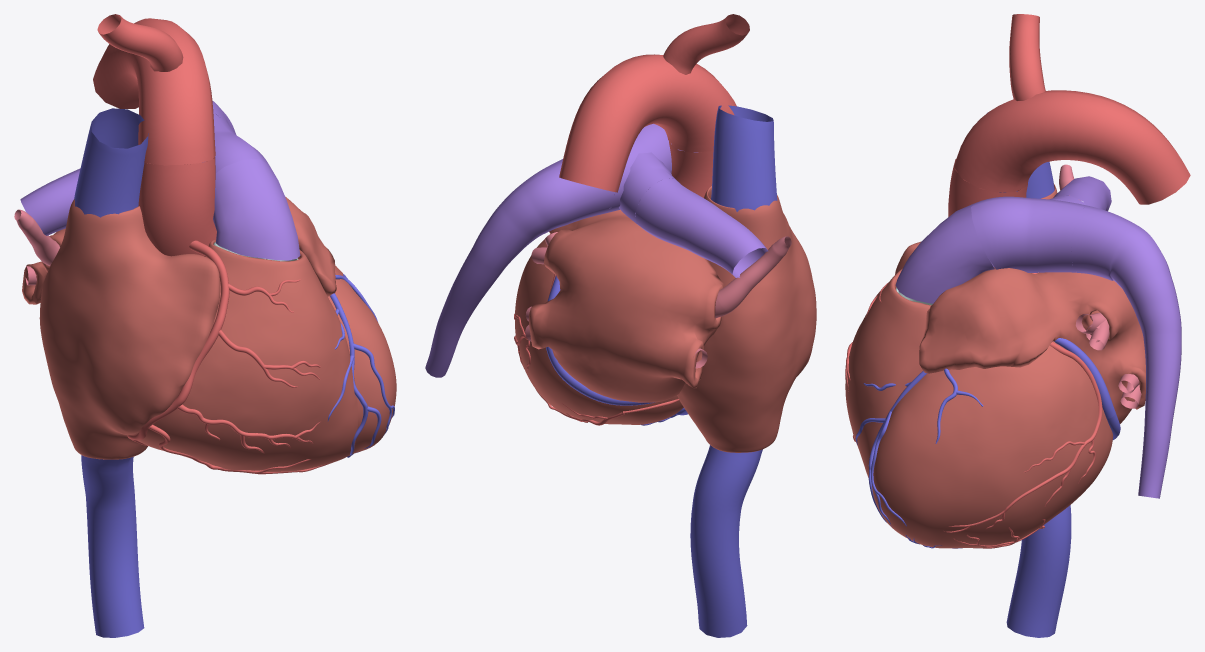
File: heart.glb
3 views of the same model, side by side, from view 1: azimuth 30°, elevation 25°; view 2: azimuth 150°, elevation 25°; view 3: azimuth 270°, elevation 25° (orthographic).
Parts seen in each view (by area): view 1: Right atrium, Right ventricle, Aortic arch, Inferior vena cava (thoracic part), Pulmonary trunk, Ascending aorta, Superior vena cava, Right coronary artery, Left ventricle, Left atrium, Brachiocephalic trunk, Right pulmonary artery (+3 smaller); view 2: Left atrium, Right atrium, Aortic arch, Left pulmonary artery, Inferior vena cava (thoracic part), Right pulmonary artery, Superior vena cava, Left ventricle, Bifurcation of pulmonary trunk, Brachiocephalic trunk, Right superior pulmonary vein, Ascending aorta (+1 smaller); view 3: Left ventricle, Left atrium, Aortic arch, Left pulmonary artery, Right ventricle, Bifurcation of pulmonary trunk, Inferior vena cava (thoracic part), Pulmonary trunk, Brachiocephalic trunk, Great cardiac vein, Circumflex artery of heart, Ascending aorta (+4 smaller).
Part boxes in pixels (left/top/right/bottom): Right atrium: left=39, top=199, right=220, bottom=459; Right ventricle: left=131, top=240, right=358, bottom=472; Aortic arch: left=93, top=18, right=215, bottom=164; Inferior vena cava (thoracic part): left=81, top=455, right=144, bottom=637; Pulmonary trunk: left=213, top=159, right=300, bottom=260; Ascending aorta: left=138, top=157, right=216, bottom=256; Superior vena cava: left=74, top=108, right=148, bottom=217; Right coronary artery: left=127, top=240, right=332, bottom=474; Left ventricle: left=328, top=266, right=396, bottom=453; Left atrium: left=22, top=196, right=336, bottom=304; Brachiocephalic trunk: left=97, top=14, right=183, bottom=71; Right pulmonary artery: left=20, top=168, right=80, bottom=235; Left atrium: left=529, top=209, right=723, bottom=402; Right atrium: left=677, top=186, right=816, bottom=452; Aortic arch: left=559, top=54, right=736, bottom=192; Left pulmonary artery: left=425, top=159, right=614, bottom=377; Inferior vena cava (thoracic part): left=690, top=445, right=762, bottom=637; Right pulmonary artery: left=635, top=178, right=768, bottom=277; Superior vena cava: left=711, top=105, right=777, bottom=211; Left ventricle: left=515, top=234, right=683, bottom=424; Bifurcation of pulmonary trunk: left=604, top=123, right=682, bottom=225; Brachiocephalic trunk: left=663, top=14, right=749, bottom=74; Right superior pulmonary vein: left=715, top=236, right=791, bottom=318; Ascending aorta: left=669, top=141, right=713, bottom=197; Left ventricle: left=871, top=341, right=1113, bottom=548; Left atrium: left=919, top=267, right=1145, bottom=423; Aortic arch: left=954, top=90, right=1190, bottom=204; Left pulmonary artery: left=1071, top=206, right=1181, bottom=498; Right ventricle: left=845, top=268, right=931, bottom=477; Bifurcation of pulmonary trunk: left=971, top=195, right=1087, bottom=272; Inferior vena cava (thoracic part): left=1006, top=505, right=1071, bottom=637; Pulmonary trunk: left=895, top=203, right=994, bottom=303; Brachiocephalic trunk: left=1009, top=14, right=1045, bottom=100; Great cardiac vein: left=855, top=338, right=1115, bottom=526; Circumflex artery of heart: left=943, top=342, right=1102, bottom=532; Ascending aorta: left=948, top=159, right=1038, bottom=273.
Bounding box in the file's own units: 0.135 × 0.2448 × 0.1243.
